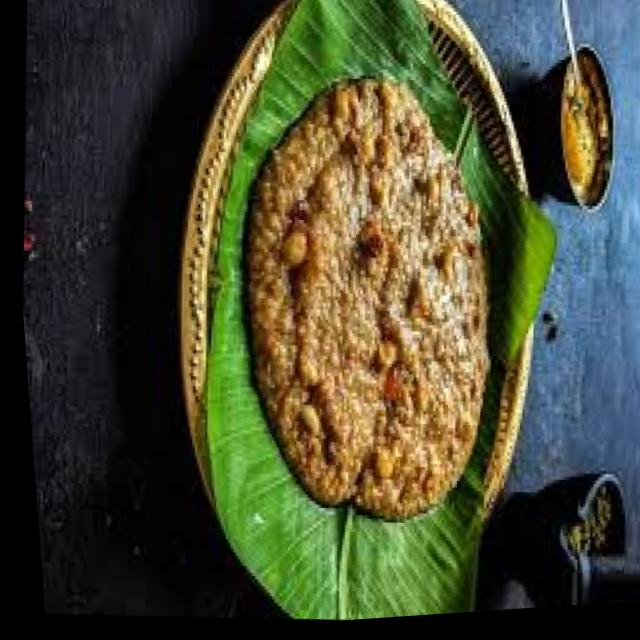PONGAL: (245, 73, 492, 518)
